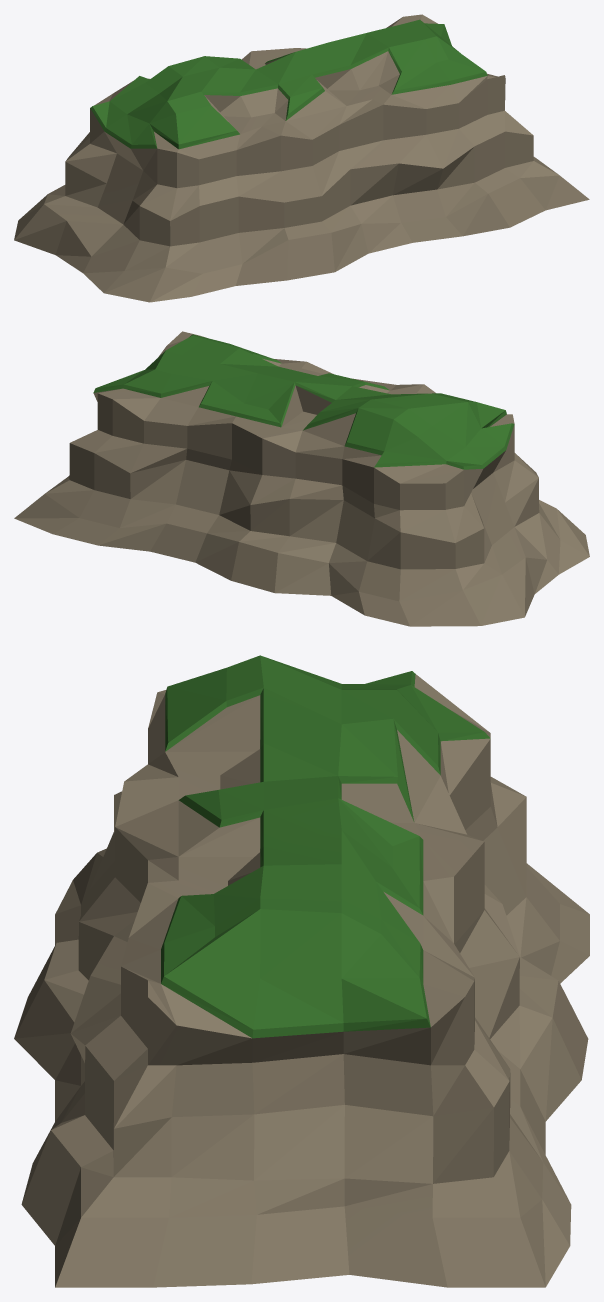
Rendered from Plateau_01.glb.
3 views of the same model, one above another, from view 1: azimuth 30°, elevation 25°; view 2: azimuth 150°, elevation 25°; view 3: azimuth 270°, elevation 25° (orthographic). The views are drawn at different scales.
Visible parts, largest first — view 1: Plateau_temperate_climate_001; view 2: Plateau_temperate_climate_001; view 3: Plateau_temperate_climate_001.
Part boxes in pixels (box(x1,y1,x2,y2)): Plateau_temperate_climate_001: box(14, 14, 589, 302); Plateau_temperate_climate_001: box(14, 331, 589, 626); Plateau_temperate_climate_001: box(14, 655, 589, 1287).
Size of the model in its own units: 59.19 by 18.09 by 32.49.
1 material, 1 textured.
